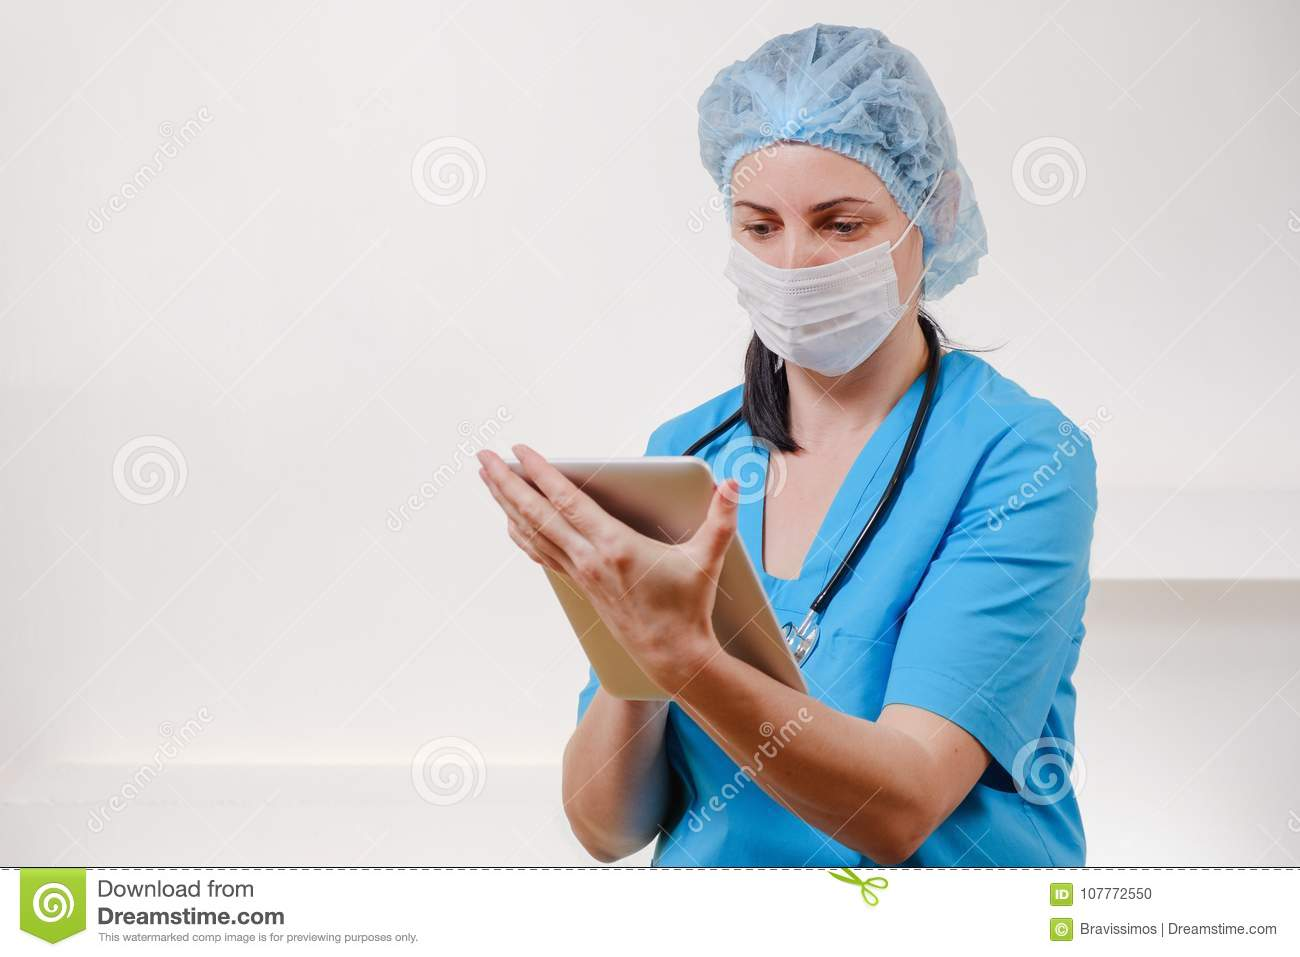mask: (732, 236, 906, 395)
